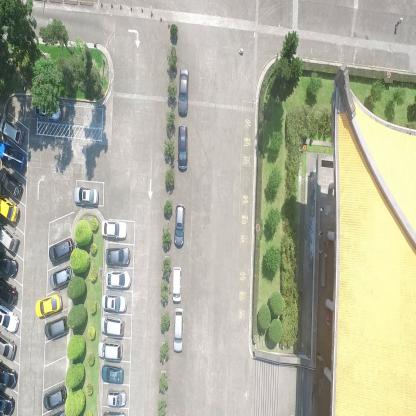car: (0, 107, 24, 146), (0, 140, 26, 171), (35, 292, 62, 320), (48, 235, 74, 263), (32, 98, 62, 122), (0, 166, 22, 198), (44, 313, 69, 341), (0, 188, 19, 224), (43, 383, 67, 410), (177, 67, 190, 116), (104, 268, 132, 289), (173, 306, 185, 354), (173, 203, 186, 247), (101, 218, 127, 240), (101, 291, 127, 313), (73, 185, 99, 207), (0, 222, 18, 253), (100, 314, 124, 337), (50, 264, 73, 288), (105, 245, 130, 267), (98, 339, 123, 361), (177, 123, 188, 171), (0, 306, 19, 333), (101, 363, 124, 385), (0, 362, 17, 391), (0, 279, 17, 306), (0, 335, 16, 362), (0, 252, 17, 277), (172, 264, 182, 304), (106, 388, 126, 406), (0, 392, 15, 416)
